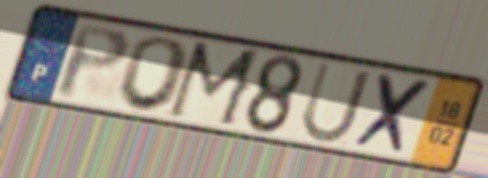8: (243, 52, 306, 137)
M: (162, 38, 267, 131)
O: (113, 33, 194, 115)
P: (53, 21, 133, 102)
U: (296, 59, 375, 147)
X: (350, 70, 437, 159)
